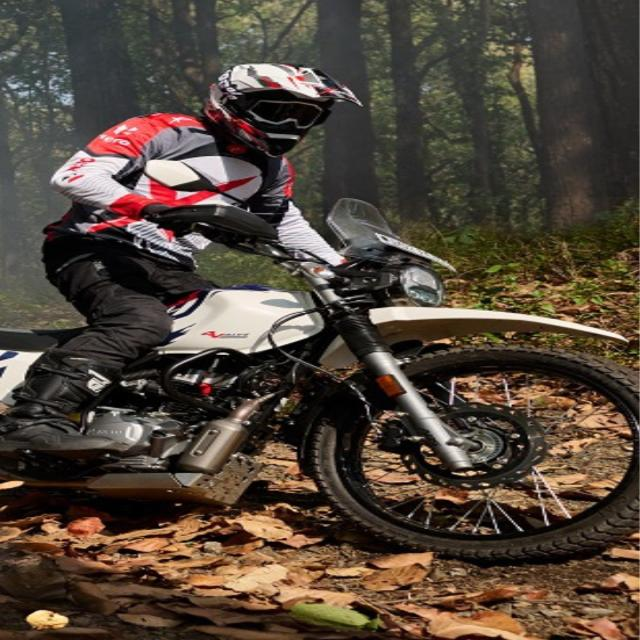motorcycle: (0, 64, 636, 560)
